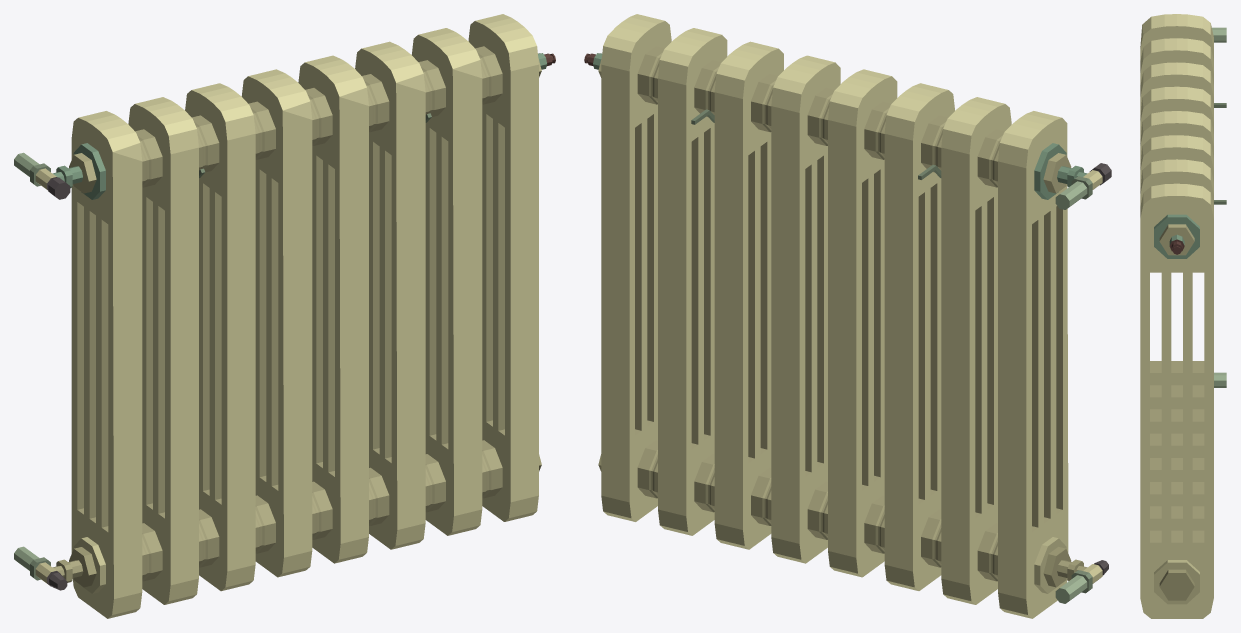
File: radiator.fbx
The picture shows the model from 3 angles, left to right: view 1: azimuth 30°, elevation 25°; view 2: azimuth 150°, elevation 25°; view 3: azimuth 270°, elevation 25°; orthographic projection. The views are drawn at different scales.
Parts seen in each view (by area): view 1: radioator; view 2: radioator; view 3: radioator.
Part boxes in pixels (<box>): radioator: <box>14,14,555,618</box>; radioator: <box>584,14,1111,618</box>; radioator: <box>1140,14,1226,618</box>.
Size of the model in its own units: 1.39 by 0.2323 by 1.25.
Materials: 1 (1 with a texture image).
